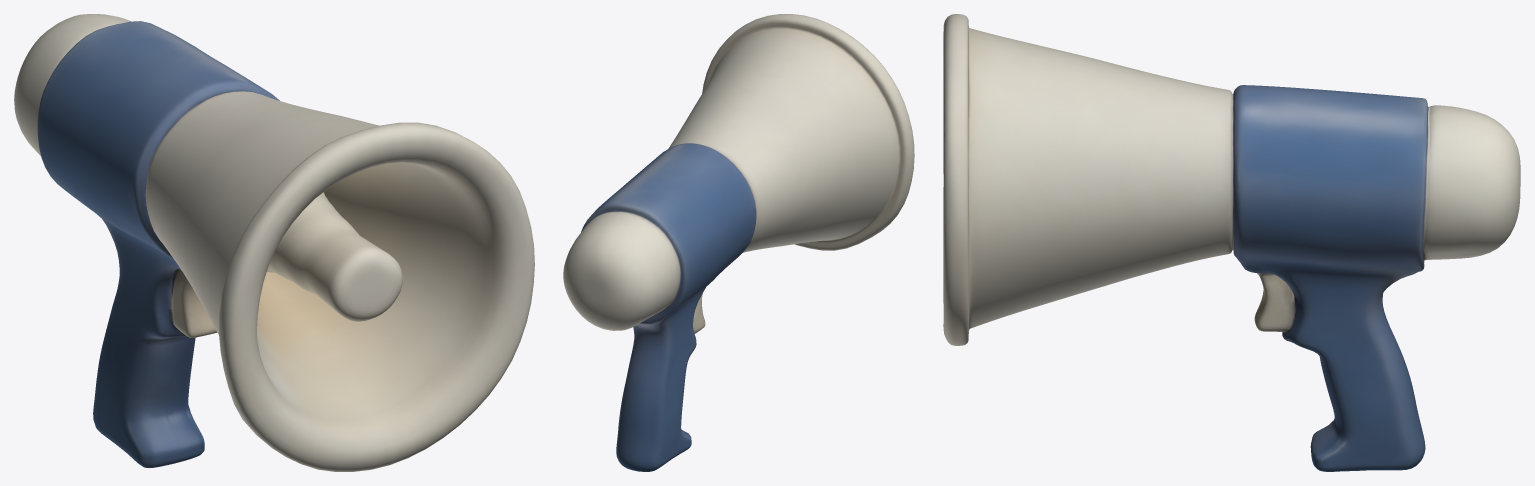
The model's file is 10_director_megaphone.glb.
3 views of the same model, side by side, from view 1: azimuth 30°, elevation 25°; view 2: azimuth 150°, elevation 25°; view 3: azimuth 270°, elevation 25° (orthographic). The views are drawn at different scales.
Parts seen in each view (by area): view 1: 10_director_megaphone; view 2: 10_director_megaphone; view 3: 10_director_megaphone.
Part boxes in pixels (x1=…): 10_director_megaphone: x1=14, y1=14, x2=534, y2=471; 10_director_megaphone: x1=563, y1=14, x2=914, y2=471; 10_director_megaphone: x1=943, y1=14, x2=1520, y2=471.
Bounding box in the file's own units: 0.2771 × 0.4127 × 0.5.
1 material, 1 textured.
